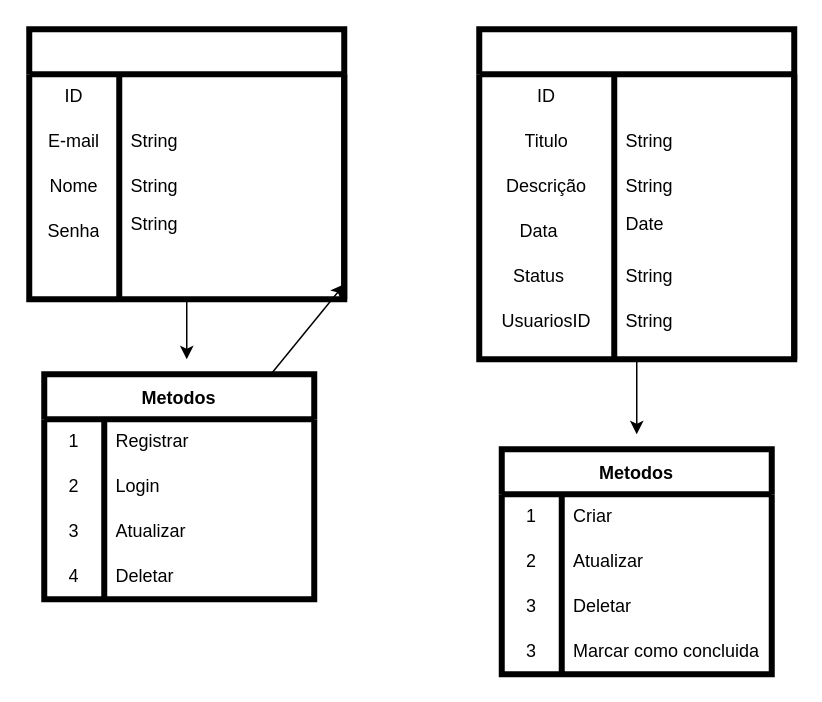
The diagram is 822 pixels wide and 702 high, and some of its shapes have lost their labels. Each missing label, with the box of its shape:
Tarefas: (476, 26, 796, 362)
USUARIOS: (26, 26, 346, 302)
